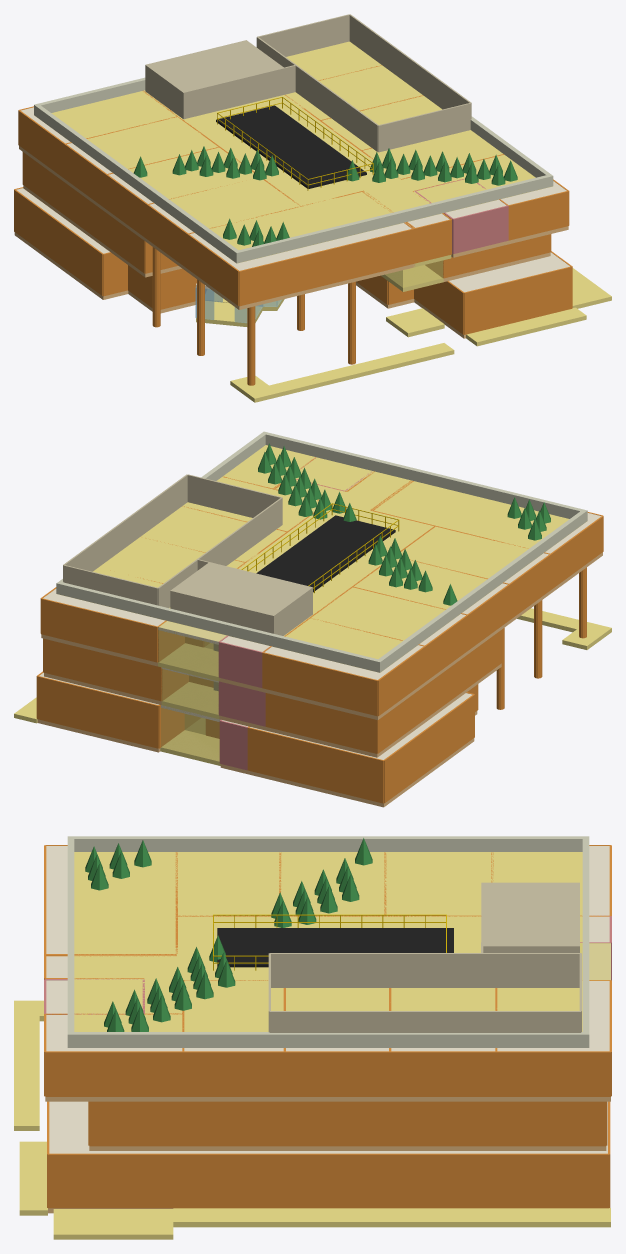
The model's file is iict_building.obj.
3 views of the same model, one above another, from view 1: azimuth 30°, elevation 25°; view 2: azimuth 150°, elevation 25°; view 3: azimuth 270°, elevation 25° (orthographic). The views are drawn at different scales.
Visible parts, largest first — view 1: RF, 3F, 1F, 2F, Misc; view 2: RF, 3F, 1F, 2F, Misc; view 3: RF, 1F, 3F, 2F.
Part boxes in pixels (x1,y1,x2,y2): RF: (34, 14, 553, 263); 3F: (18, 65, 569, 309); 1F: (14, 187, 611, 402); 2F: (22, 152, 551, 291); Misc: (152, 247, 355, 385); RF: (56, 431, 587, 672); 3F: (40, 457, 603, 719); 1F: (14, 608, 611, 807); 2F: (43, 629, 502, 757); Misc: (214, 567, 586, 709); RF: (67, 836, 589, 1047); 1F: (14, 1000, 610, 1239); 3F: (44, 845, 611, 1101); 2F: (88, 1101, 607, 1150).
Bounding box in the file's own units: 39.2 × 14.7 × 41.37.
